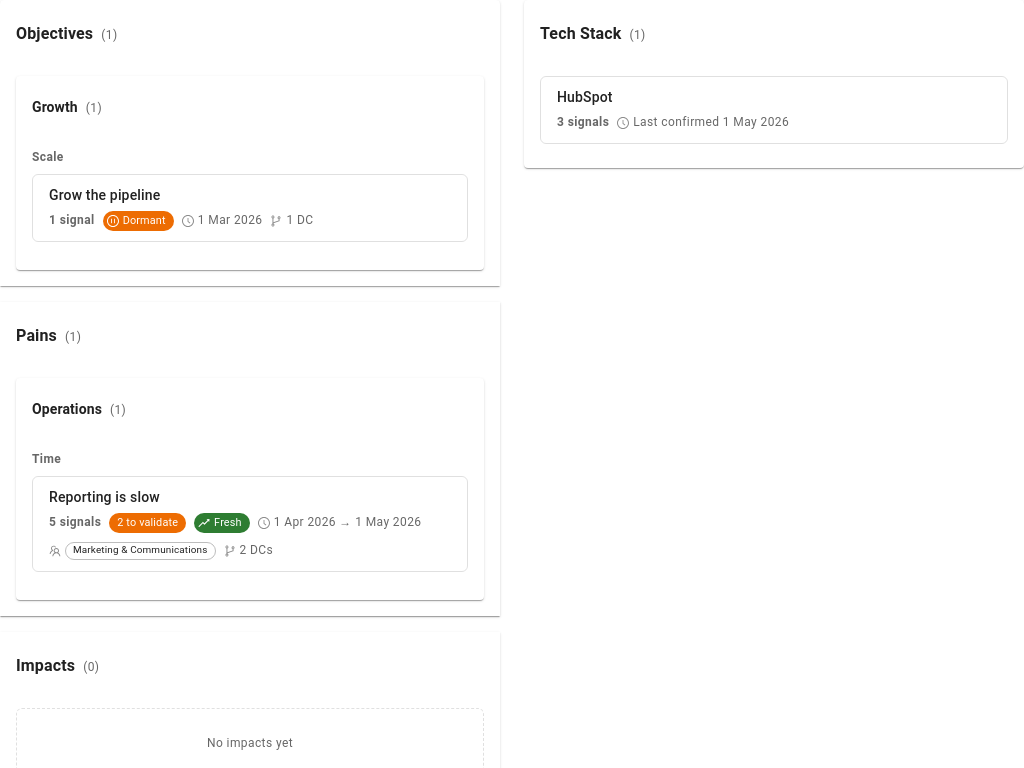
QualificationGroupedView — collapsible sections (open by default) › clicking a section header toggles it (open → closed → open)
The image size is (1024, 768).
Click the button "Pains (1)" at (49, 335), box [16,326,81,345]
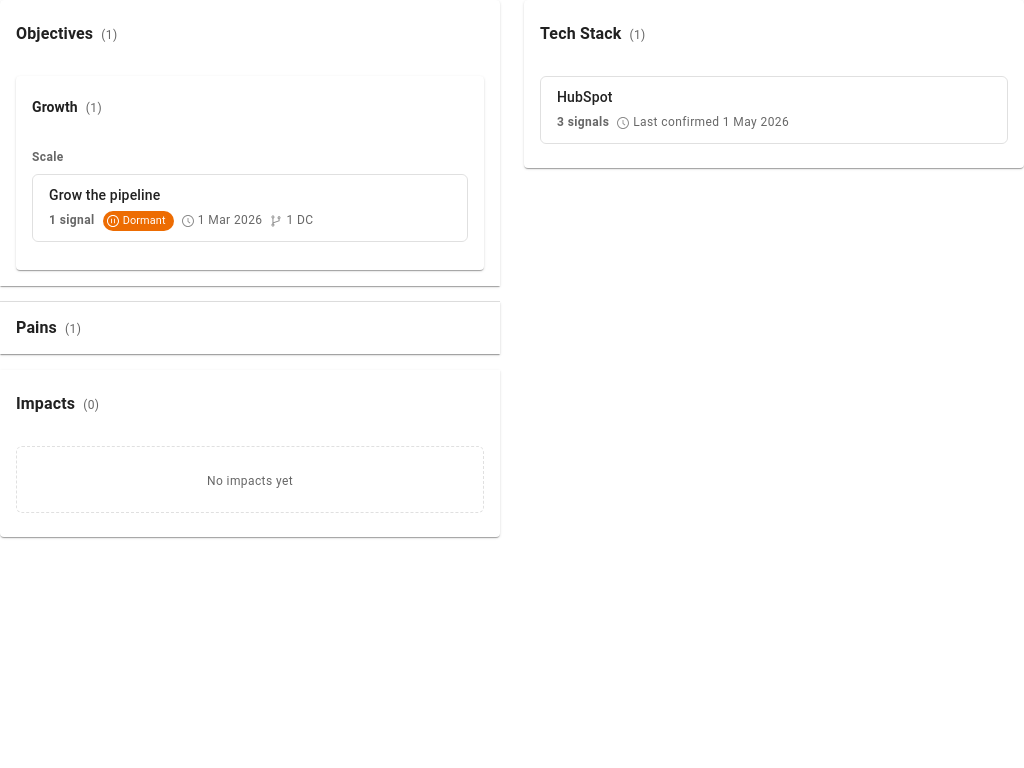
Result: the button "Pains (1)" is collapsed
Click the button "Pains (1)" at (49, 327), box [16,318,81,337]
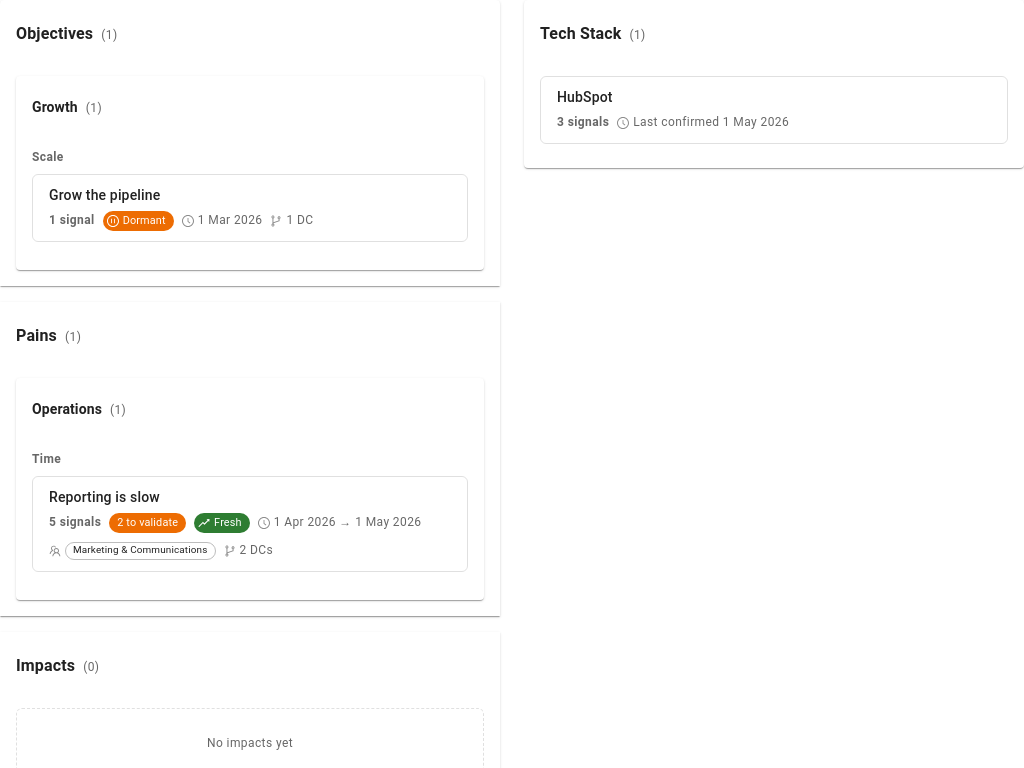
Result: the button "Pains (1)" is expanded at [16,326,81,345]
